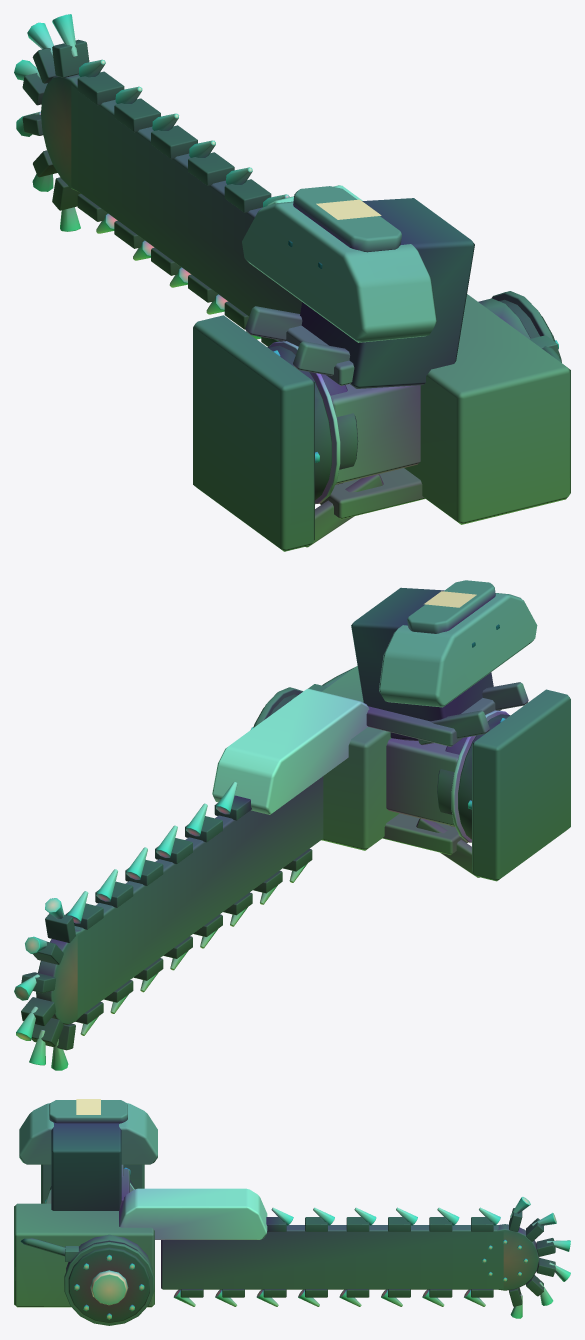
File: arm_cs88.glb
The picture shows the model from 3 angles, top to bottom: view 1: azimuth 30°, elevation 25°; view 2: azimuth 150°, elevation 25°; view 3: azimuth 270°, elevation 25°; orthographic projection. The views are drawn at different scales.
Parts seen in each view (by area): view 1: Body__gunmetal, Body__armor_sub, Body__dark, Body__armor, Body__chrome, Body__decal; view 2: Body__gunmetal, Body__armor_sub, Body__dark, Body__armor, Body__hazard, Body__chrome; view 3: Body__gunmetal, Body__dark, Body__armor_sub, Body__hazard, Body__chrome, Body__armor, Body__decal.
Part boxes in pixels (box(x1,y1,x2,y2)): Body__gunmetal: box(41, 74, 561, 551); Body__armor_sub: box(245, 186, 570, 547); Body__dark: box(22, 39, 561, 500); Body__armor: box(242, 201, 436, 484); Body__chrome: box(14, 14, 558, 504); Body__decal: box(316, 199, 381, 219); Body__gunmetal: box(36, 667, 570, 1024); Body__armor_sub: box(321, 580, 528, 877); Body__dark: box(21, 587, 510, 1050); Body__armor: box(379, 593, 537, 826); Body__hazard: box(212, 689, 369, 814); Body__chrome: box(14, 710, 508, 1070); Body__gunmetal: box(20, 1164, 539, 1325); Body__dark: box(48, 1122, 555, 1323); Body__armor_sub: box(14, 1100, 154, 1307); Body__hazard: box(119, 1188, 267, 1239); Body__chrome: box(45, 1167, 570, 1319); Body__armor: box(19, 1103, 157, 1164); Body__decal: box(76, 1099, 100, 1114).
Size of the model in its own units: 1.01 by 0.9806 by 2.69.
